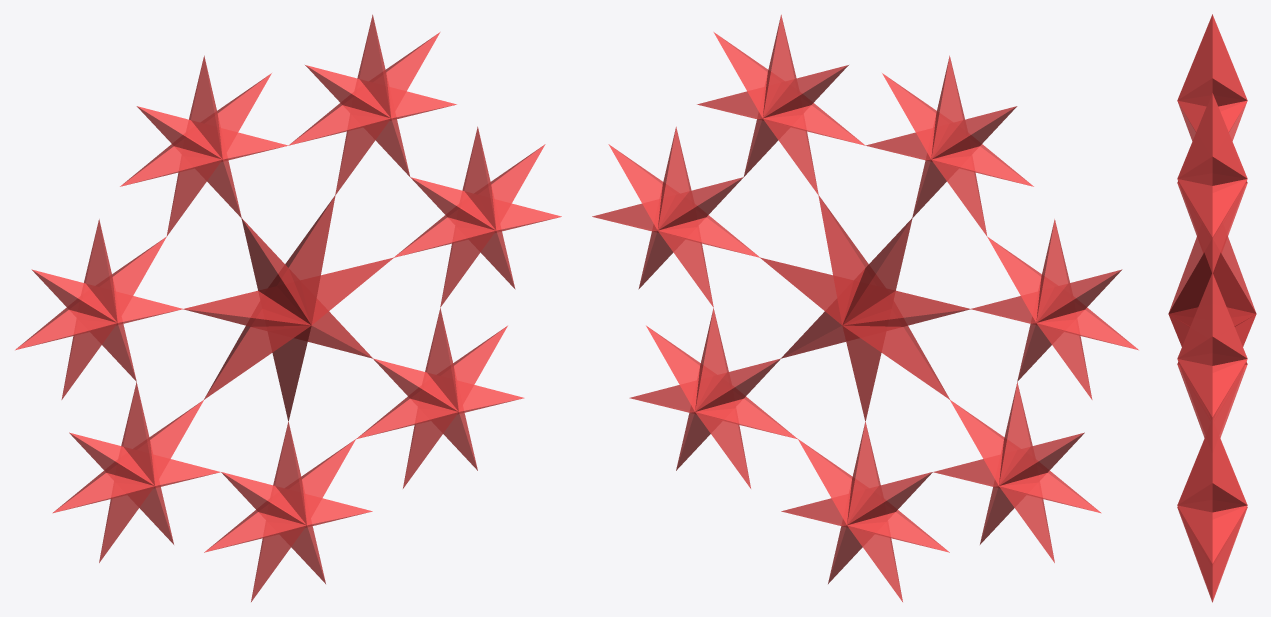
File: fractalheptagrammicdipyramid1.glb
3 views of the same model, side by side, from view 1: azimuth 30°, elevation 25°; view 2: azimuth 150°, elevation 25°; view 3: azimuth 270°, elevation 25° (orthographic). The views are drawn at different scales.
Size of the model in its own units: 12.59 by 12.28 by 1.84.
